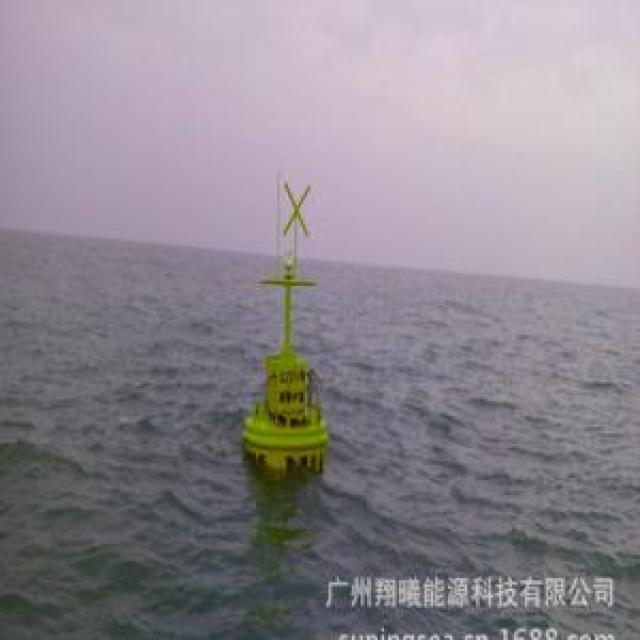buoy: (233, 161, 337, 477)
